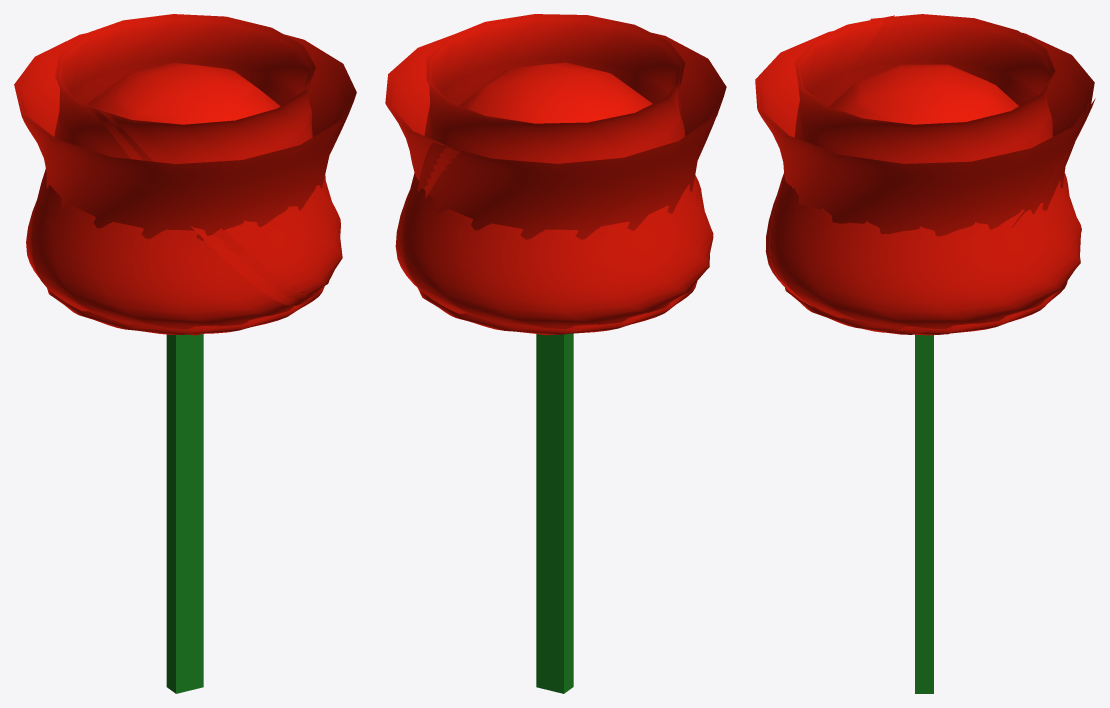
Rendered from Flower.fbx.
The picture shows the model from 3 angles, left to right: view 1: azimuth 30°, elevation 25°; view 2: azimuth 150°, elevation 25°; view 3: azimuth 270°, elevation 25°; orthographic projection.
Parts seen in each view (by area): view 1: BézierCurve, Cube, Mball; view 2: BézierCurve, Cube, Mball; view 3: BézierCurve, Mball, Cube.
Part boxes in pixels (left/top/right/bottom): BézierCurve: left=14, top=14, right=356, bottom=334; Cube: left=166, top=334, right=203, bottom=693; Mball: left=87, top=63, right=280, bottom=335; BézierCurve: left=385, top=14, right=726, bottom=334; Cube: left=536, top=333, right=573, bottom=693; Mball: left=460, top=62, right=652, bottom=335; BézierCurve: left=755, top=14, right=1095, bottom=335; Mball: left=829, top=64, right=1018, bottom=334; Cube: left=915, top=334, right=933, bottom=693.
Bounding box in the file's own units: 31.21 × 62.67 × 31.32.
